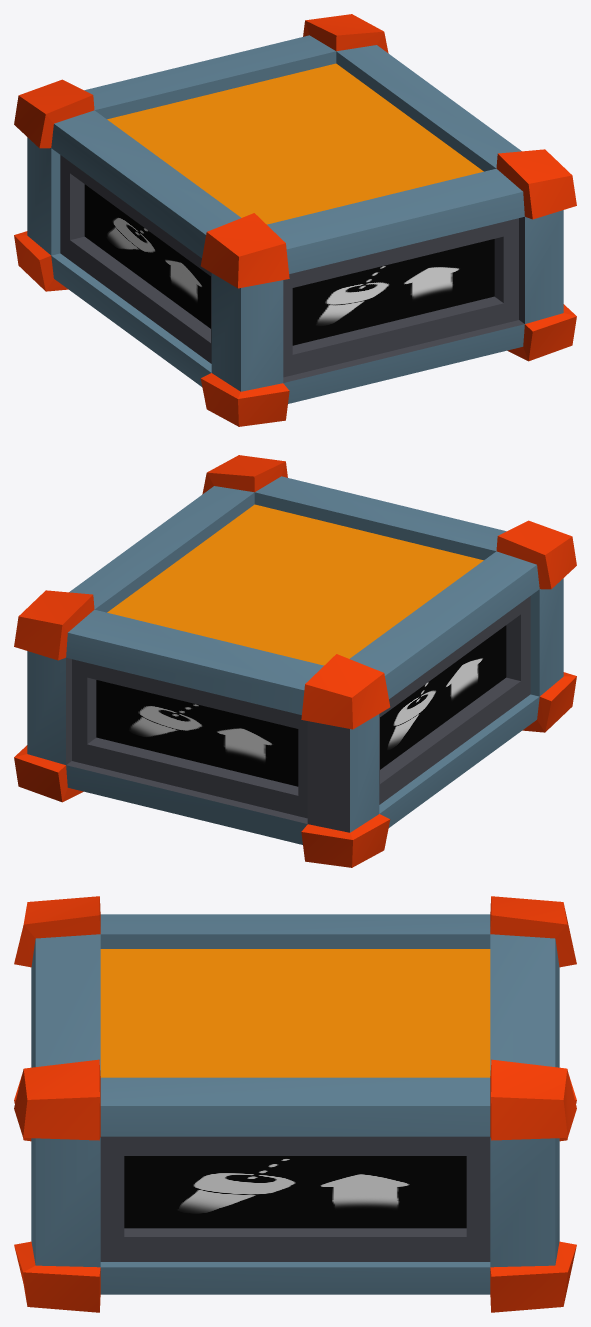
The model's file is range_up.obj.
3 renders of one model, top to bottom at view 1: azimuth 30°, elevation 25°; view 2: azimuth 150°, elevation 25°; view 3: azimuth 270°, elevation 25°, orthographic. The views are drawn at different scales.
Parts seen in each view (by area): view 1: Box001, Object003, Object004, Object001, Object002; view 2: Box001, Object003, Object004, Object001, Object002; view 3: Box001, Object003, Object001, Object002, Object004.
Boxes of the visible parts, box(x1,y1,x2,y2) form: Box001: box(27, 35, 563, 403); Object003: box(107, 63, 483, 224); Object004: box(60, 155, 524, 382); Object001: box(14, 14, 576, 426); Object002: box(84, 184, 494, 345); Box001: box(27, 476, 563, 844); Object003: box(107, 504, 483, 665); Object004: box(66, 596, 530, 832); Object001: box(14, 455, 576, 867); Object002: box(96, 625, 506, 786); Box001: box(31, 914, 559, 1294); Object003: box(100, 949, 490, 1077); Object001: box(14, 896, 576, 1312); Object002: box(124, 1156, 466, 1228); Object004: box(100, 1136, 490, 1261).
Size of the model in its own units: 84.92 by 44.52 by 97.02.
Materials: 5 (1 with a texture image).
